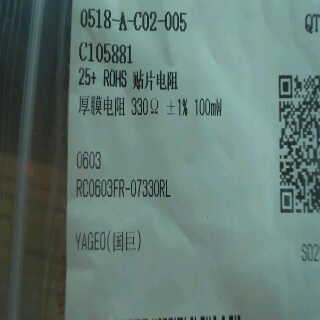330R: (129, 95, 163, 120)
